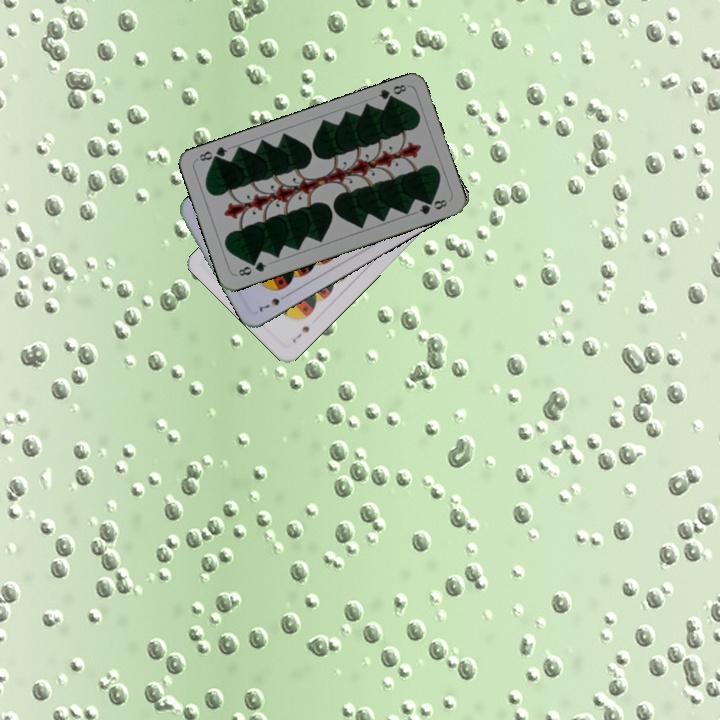G8: (374, 80, 409, 106), (234, 257, 269, 279)
S7: (253, 290, 291, 314), (288, 322, 312, 346)
